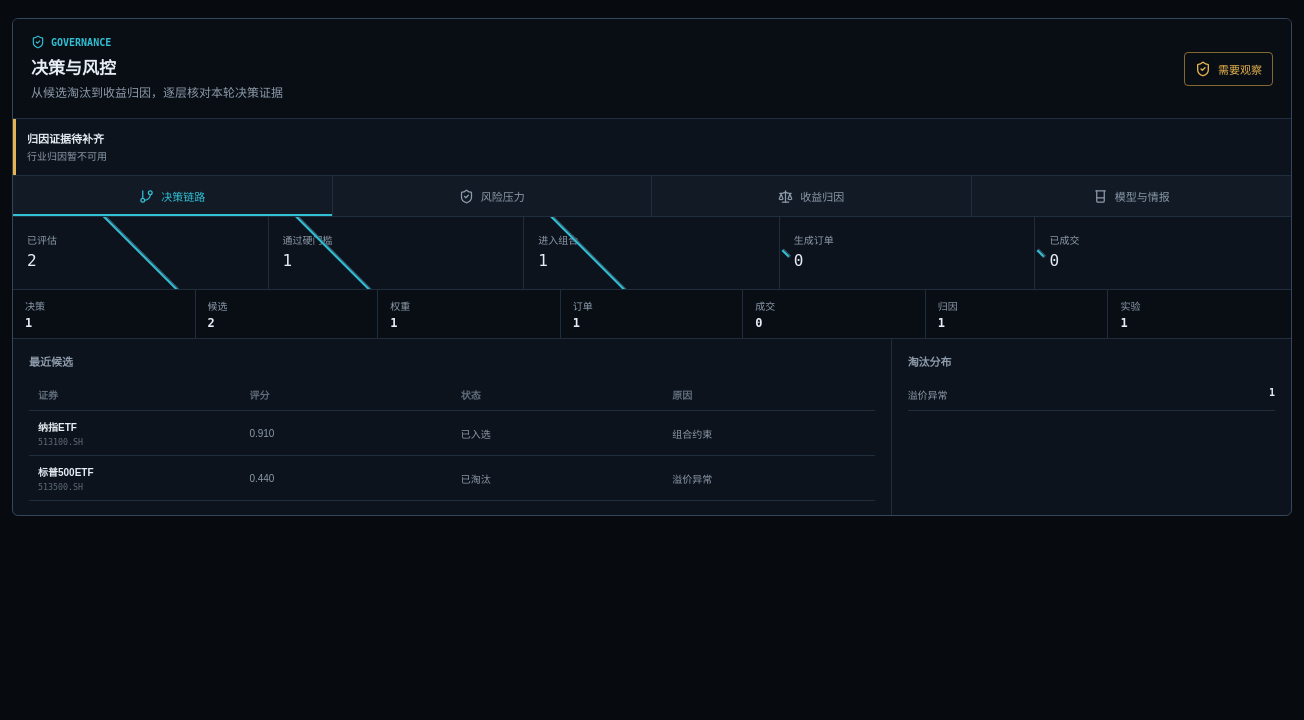
GovernancePanel › supports evidence drill-down across decision, risk, attribution and research
Expected: the text "纳指ETF" is shown, [38,422,77,433]
Expected: the text "溢价异常" is shown 2 times, [663,456,875,501]; [908,390,948,401]
Click the tab "风险压力" at coordinates (492, 196), box [332,176,652,216]
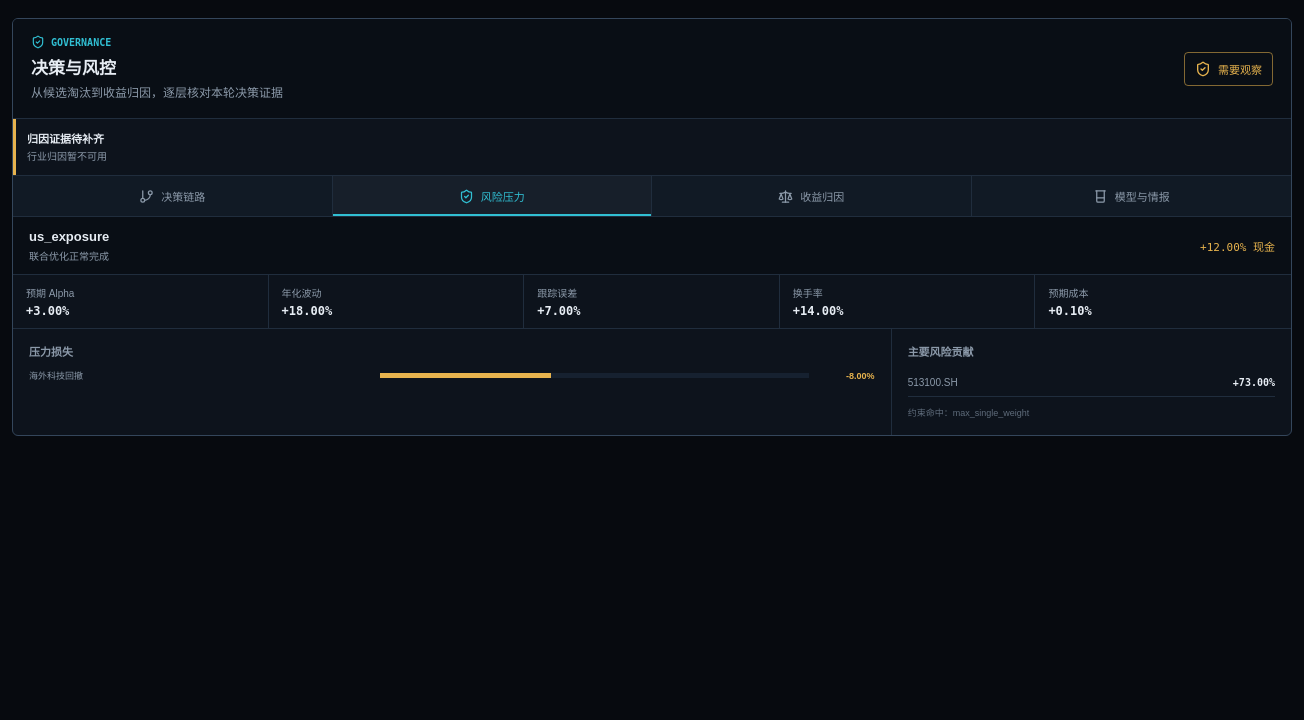
Expected: the text "海外科技回撤" is shown, [29,371,83,381]
Expected: the text "约束命中：max_single_weight" is shown, [908,408,1029,418]
Click the tab "收益归因" at coordinates (812, 196), box [652,176,972,216]
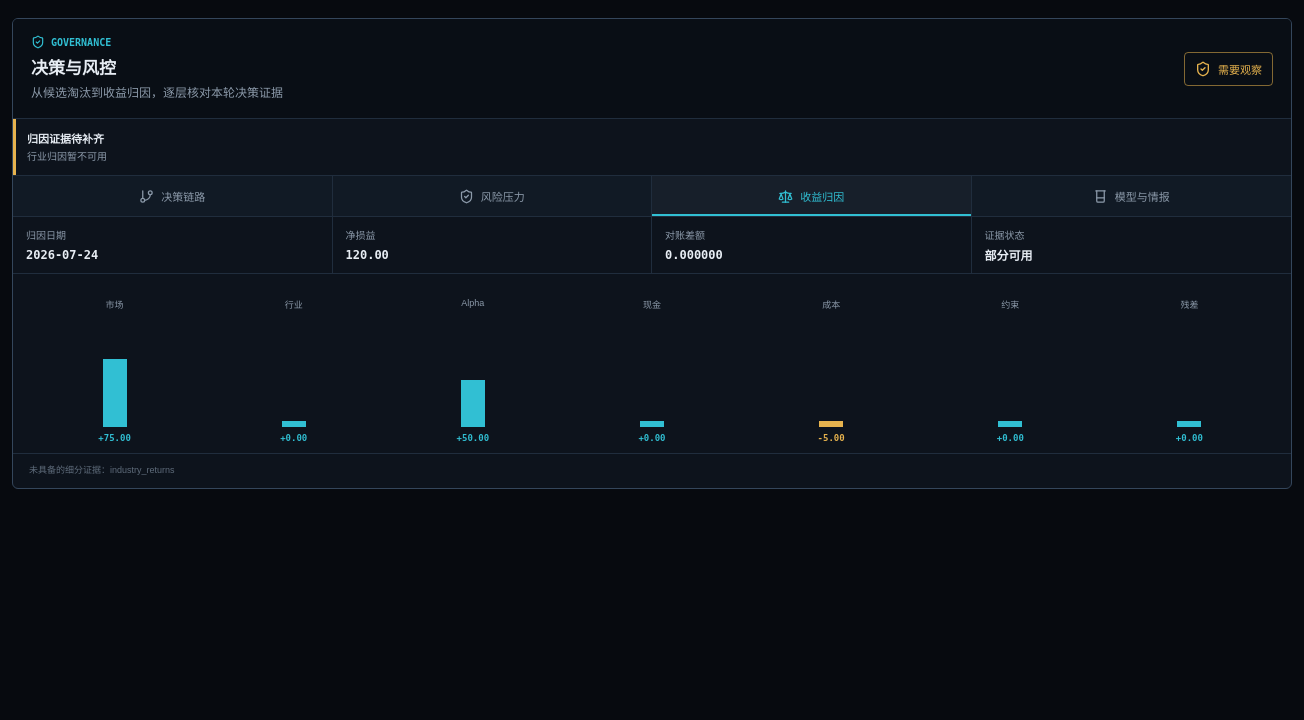
Expected: the text "对账差额" is shown, [665,230,705,241]
Expected: the text "未具备的细分证据：industry_returns" is shown, [29,465,174,475]
Click the tab "模型与情报" at coordinates (1131, 196), box [972,176,1291,216]
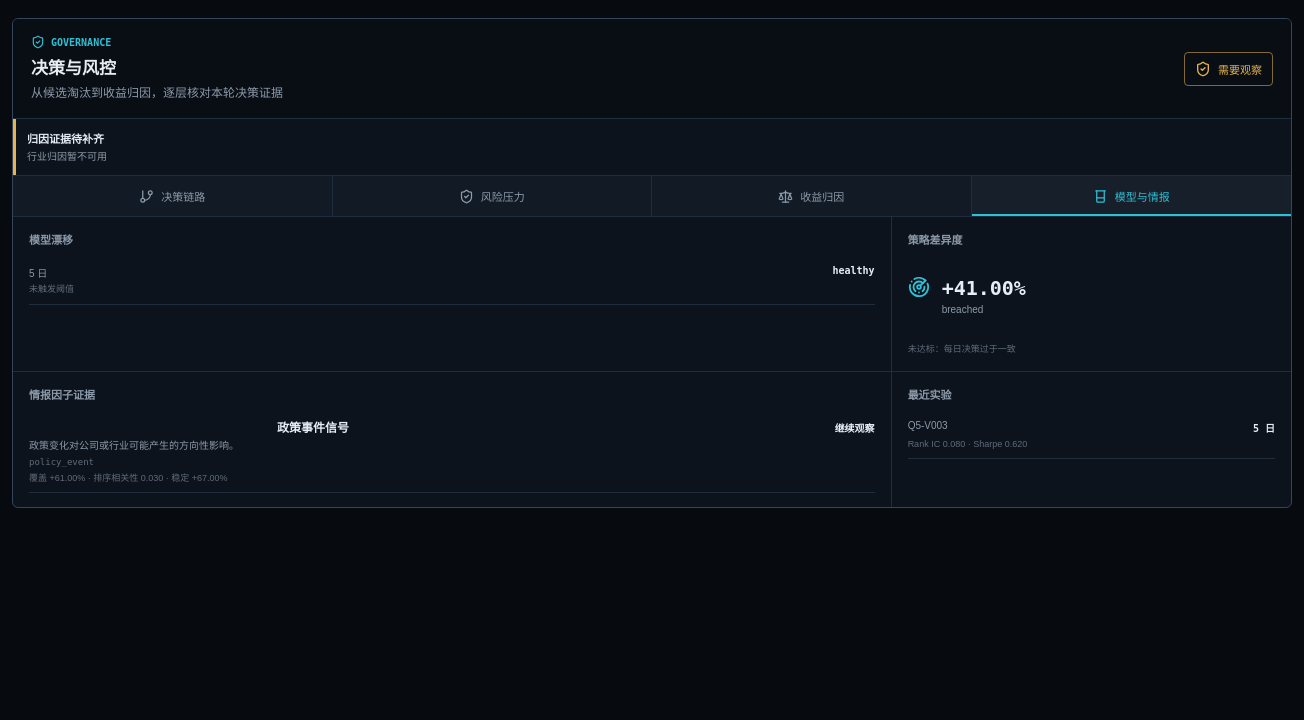
Expected: the text "政策事件信号" is shown, [277,421,349,435]
Expected: the text "policy_event" is shown, [29,456,94,468]
